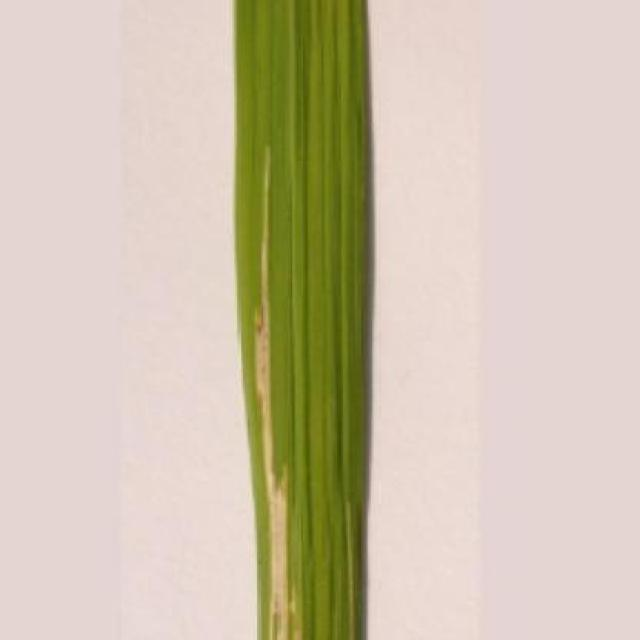Brown_Spot: (226, 0, 377, 640)
